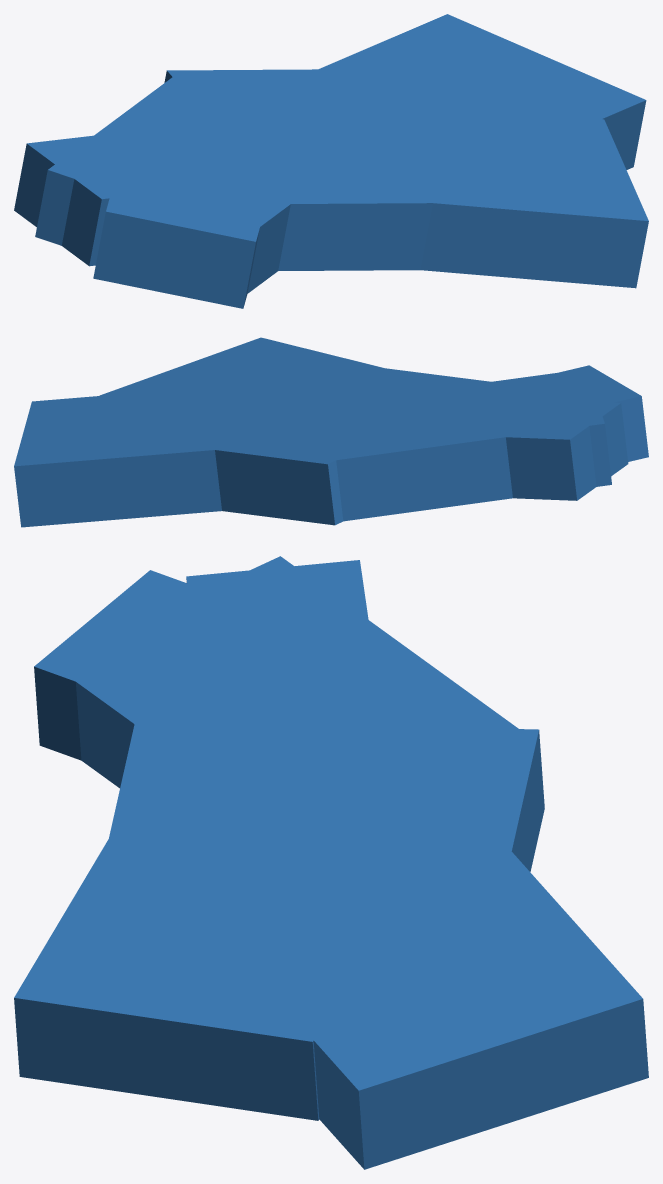
Rendered from p_PuddleB.fbx.
3 views of the same model, one above another, from view 1: azimuth 30°, elevation 25°; view 2: azimuth 150°, elevation 25°; view 3: azimuth 270°, elevation 25° (orthographic). The views are drawn at different scales.
Visible parts, largest first — view 1: Water__41_, Water__39_, Water__42_, Water__40_, Water__44_, Water__43_; view 2: Water__42_, Water__39_, Water__40_, Water__41_, Water__43_, Water__44_; view 3: Water__39_, Water__40_, Water__42_, Water__41_, Water__44_, Water__43_.
Part boxes in pixels (x1=…): Water__41_: x1=325, y1=96, x2=648, y2=288; Water__39_: x1=164, y1=68, x2=577, y2=270; Water__42_: x1=35, y1=77, x2=371, y2=293; Water__40_: x1=266, y1=14, x2=646, y2=169; Water__44_: x1=93, y1=129, x2=278, y2=308; Water__43_: x1=14, y1=132, x2=185, y2=266; Water__42_: x1=316, y1=369, x2=611, y2=521; Water__39_: x1=130, y1=354, x2=490, y2=525; Water__40_: x1=14, y1=381, x2=305, y2=527; Water__41_: x1=99, y1=337, x2=409, y2=433; Water__43_: x1=481, y1=402, x2=628, y2=500; Water__44_: x1=454, y1=365, x2=648, y2=461; Water__39_: x1=82, y1=720, x2=544, y2=965; Water__40_: x1=175, y1=794, x2=648, y2=1169; Water__42_: x1=50, y1=556, x2=518, y2=836; Water__41_: x1=14, y1=808, x2=384, y2=1120; Water__44_: x1=34, y1=570, x2=378, y2=760; Water__43_: x1=186, y1=560, x2=370, y2=661.
Size of the model in its own units: 498 by 129 by 331.
